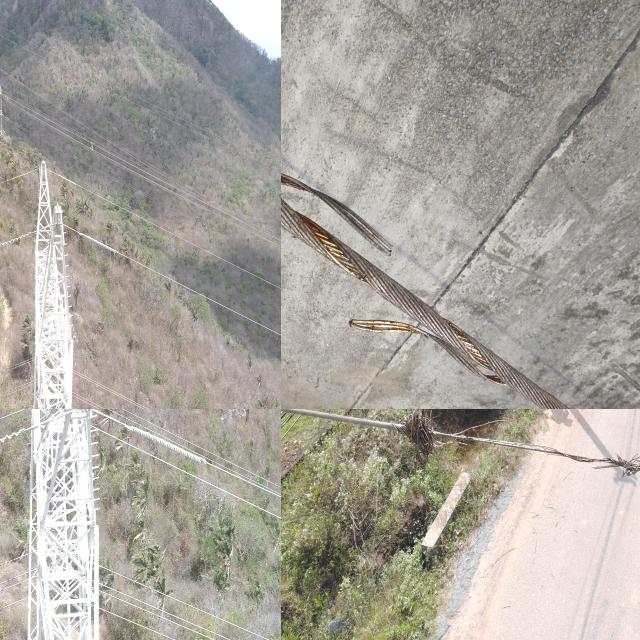杆塔: (30, 409, 92, 640), (33, 153, 77, 409)
正常电缆: (102, 427, 281, 525), (102, 409, 281, 503), (100, 559, 281, 640), (101, 602, 192, 640)
电缆破损: (281, 5, 569, 275), (390, 409, 640, 488)
